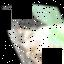Purslane: (3, 16, 64, 64)
